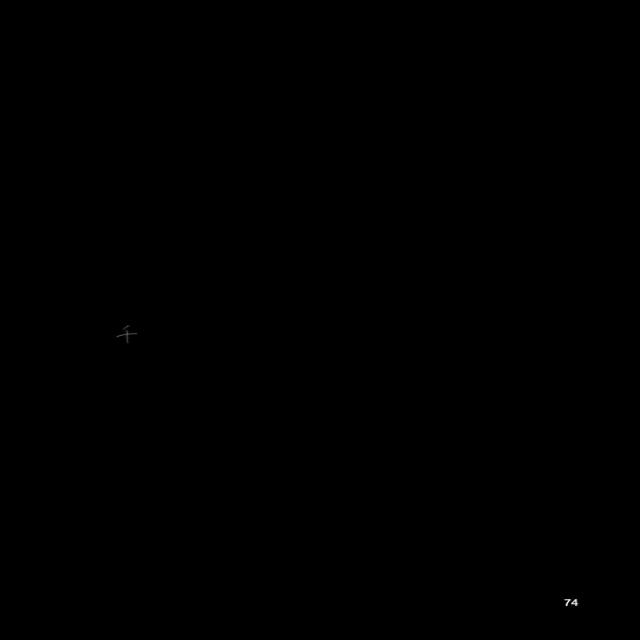1000 -a thousand-: (111, 322, 142, 346)
